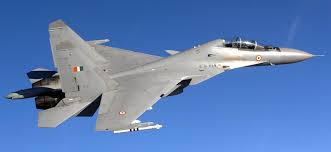maybay_muctieu: (16, 19, 331, 140)
